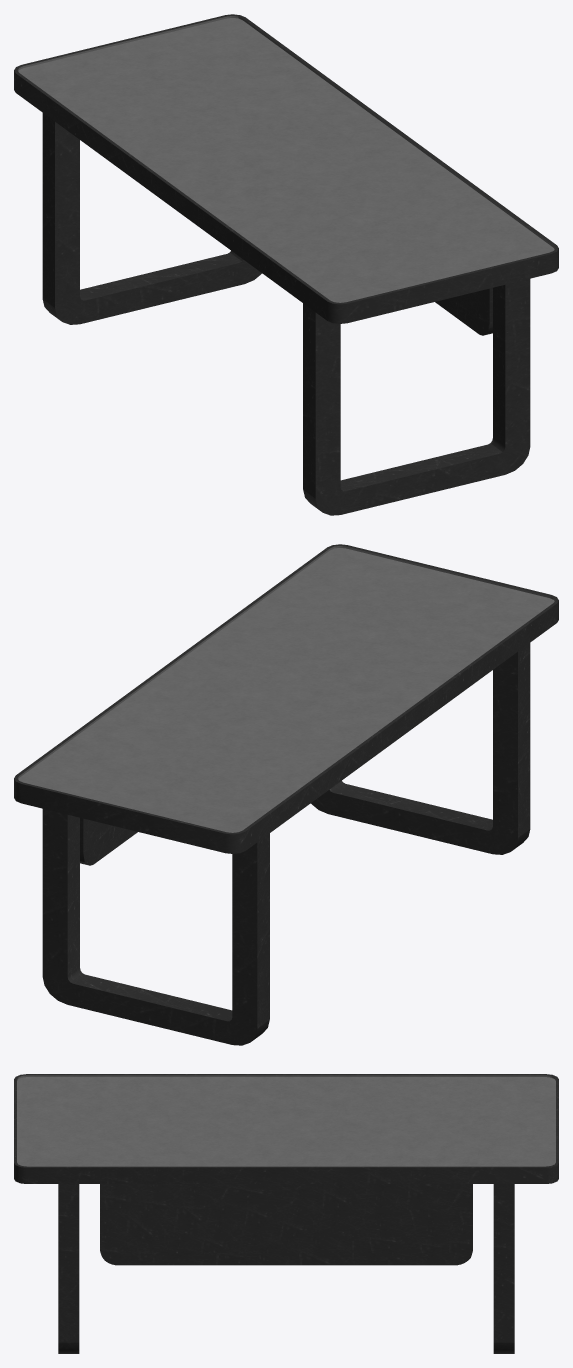
File: table.fbx
3 views of the same model, one above another, from view 1: azimuth 30°, elevation 25°; view 2: azimuth 150°, elevation 25°; view 3: azimuth 270°, elevation 25° (orthographic). The views are drawn at different scales.
Visible parts, largest first — view 1: bake; view 2: bake; view 3: bake.
Part boxes in pixels (x1,y1,x2,y2): bake: (14, 14, 558, 515); bake: (14, 544, 558, 1045); bake: (14, 1074, 558, 1353).
Size of the model in its own units: 214 by 210 by 526.
Materials: 1 (1 with a texture image).
